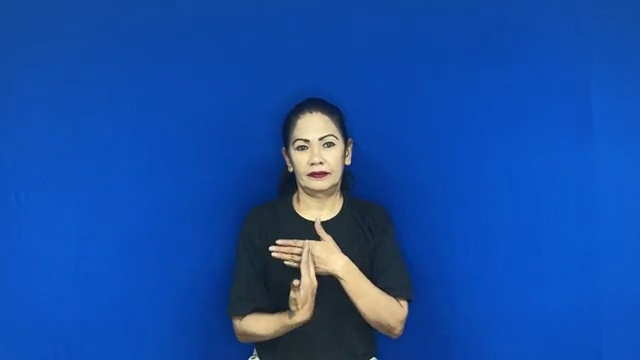bread: (259, 213, 372, 329)
